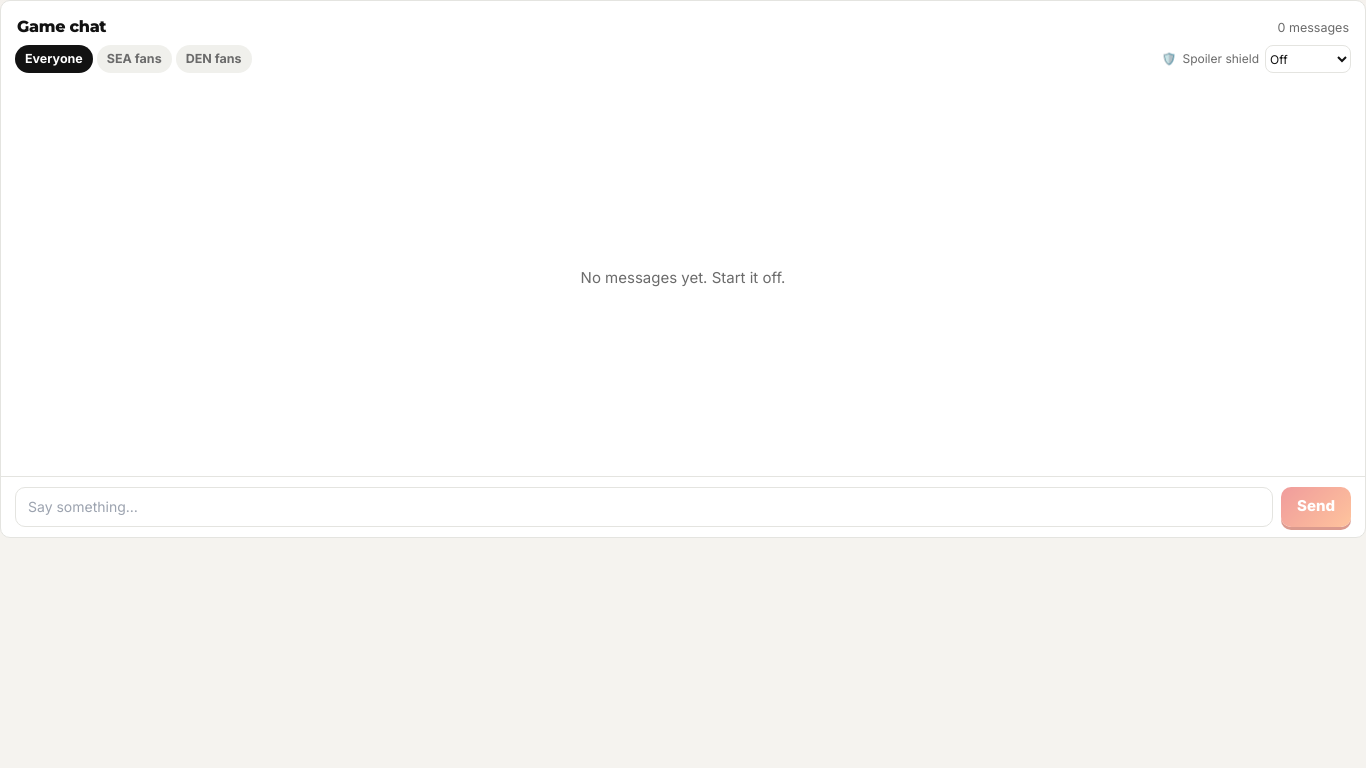
Test: ChatPanel › shows your message as soon as the server accepts it, without waiting on realtime
The width and height of the screenshot is (1366, 768).
Expected: the text "No messages yet. Start it off." is shown, left=581, top=268, right=785, bottom=287
Type "Broncos by 7" into the field named "Chat message" at (644, 507), box left=15, top=487, right=1273, bottom=527
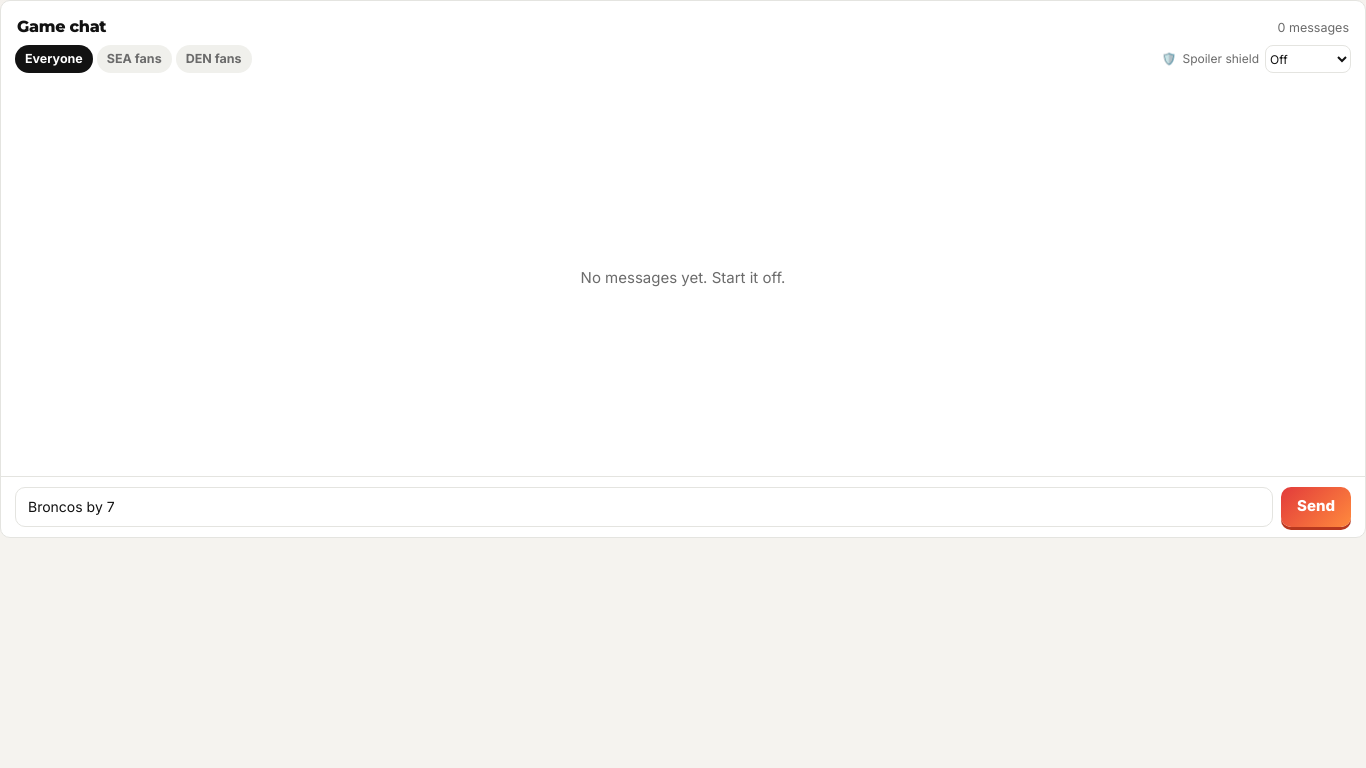
Click the button "Send" at (1316, 507), box left=1281, top=487, right=1351, bottom=527
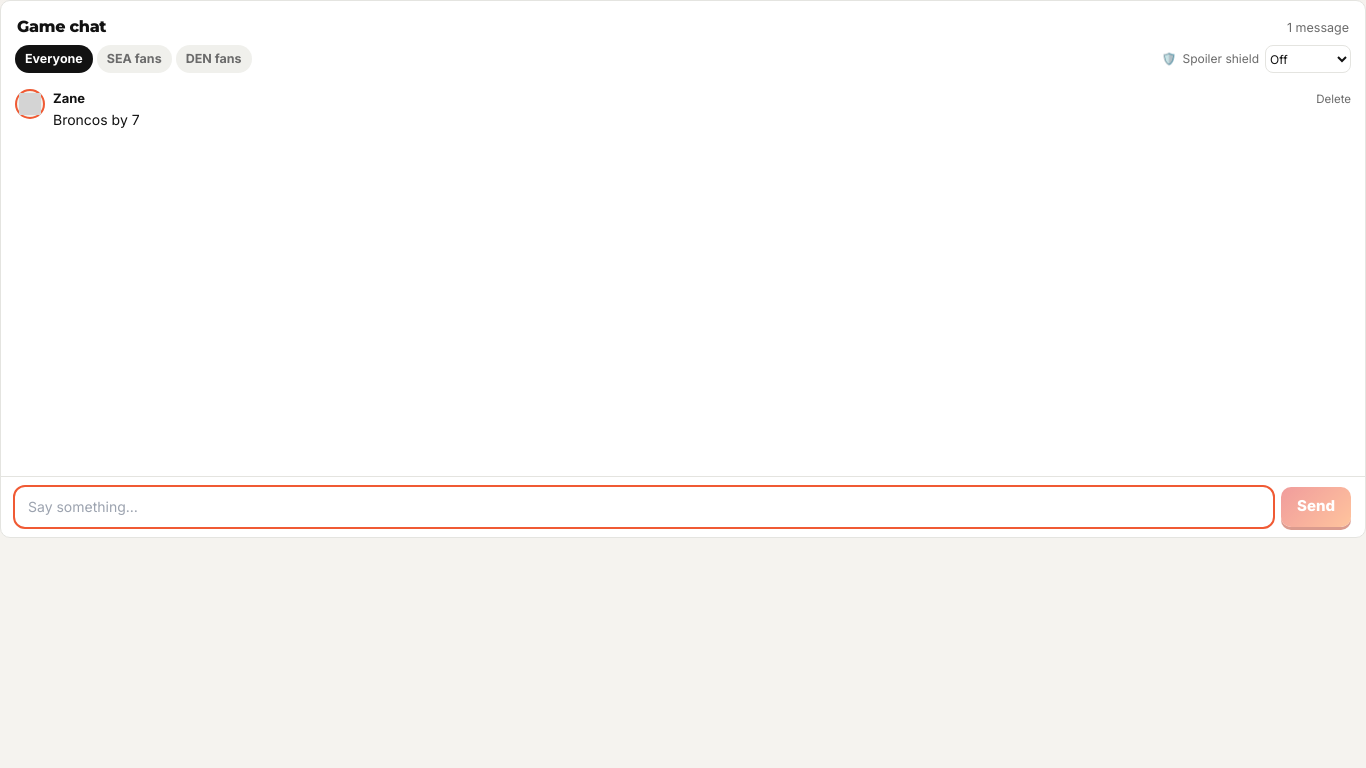
Expected: the text "Broncos by 7" is shown, left=53, top=110, right=140, bottom=128
Expected: the field named "Chat message" is empty, left=15, top=487, right=1273, bottom=527
